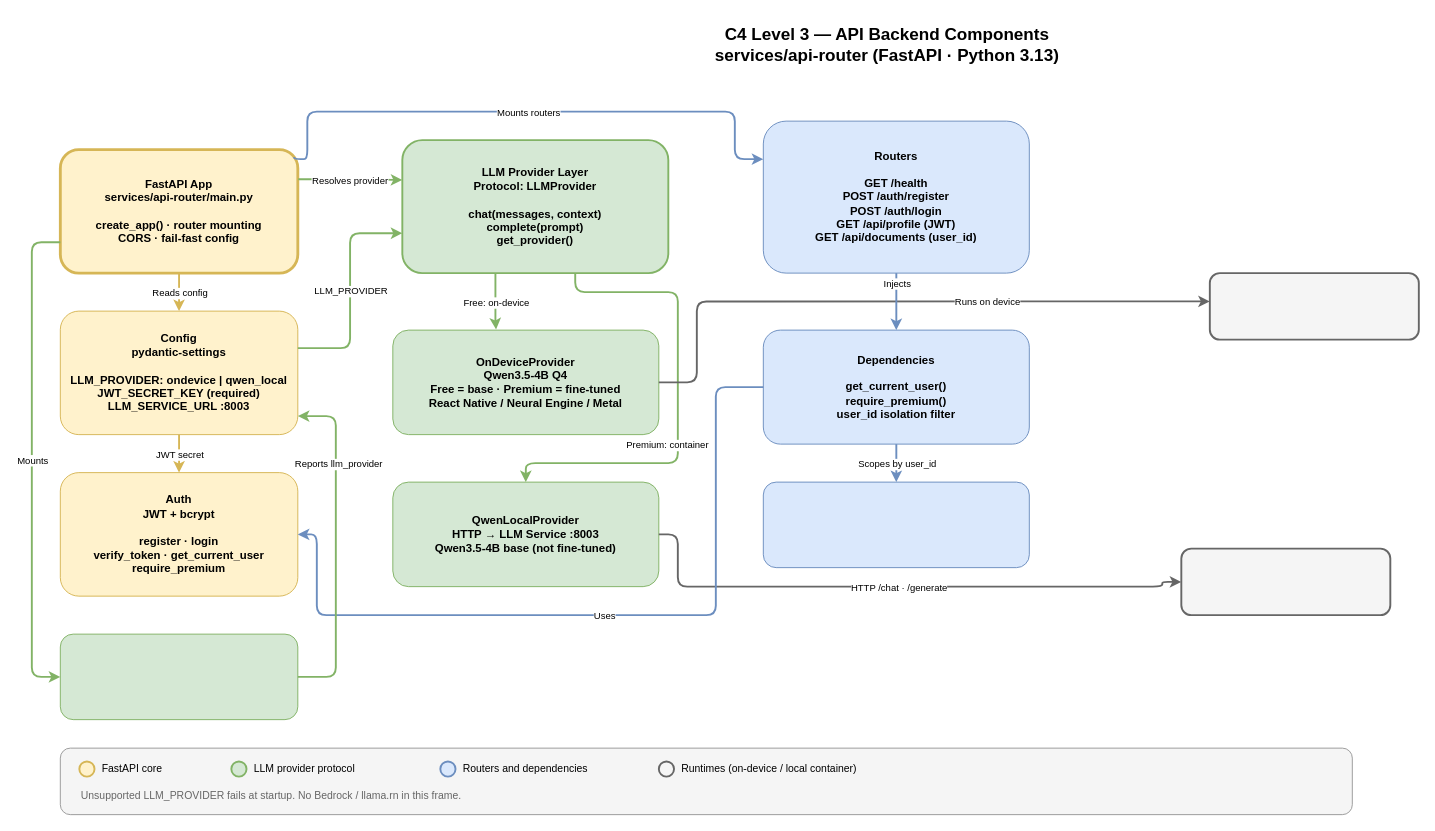
Some shapes in this 1435 by 831 pixel diagram are drawn without their labels. Here are the shapes that lost their labels. From the top down, the box of each, then its label:
(1208, 272, 1419, 340): iPhone runtime Neural Engine / Metal
(762, 481, 1029, 568): Data models User · Document · Subscription
(1180, 547, 1391, 616): LLM Service :8003 Qwen3.5-4B base container
(59, 633, 298, 720): GET /health (public) status: ok · llm_provider (no secrets)
